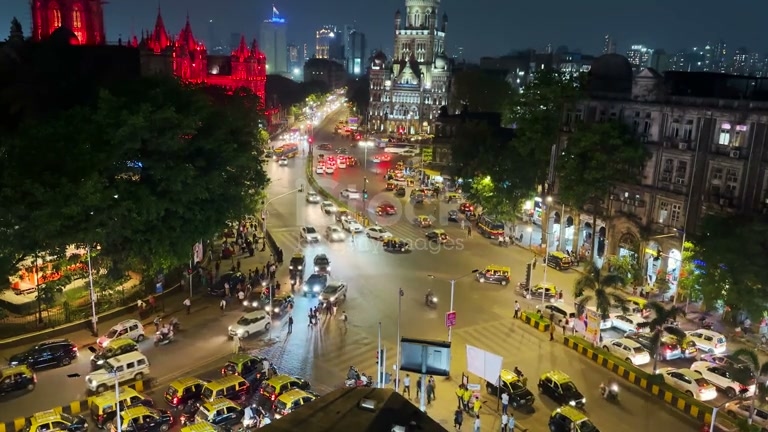bus: (315, 152, 357, 175)
car: (85, 349, 151, 395), (537, 370, 587, 409), (23, 339, 79, 371), (499, 366, 535, 410), (546, 404, 600, 432), (227, 309, 271, 340), (608, 337, 651, 364), (686, 329, 727, 357), (499, 380, 536, 411), (0, 366, 38, 395), (473, 265, 511, 286), (545, 249, 573, 272), (382, 237, 412, 253), (366, 226, 393, 241), (327, 225, 346, 242), (366, 225, 386, 239), (304, 228, 320, 244), (447, 210, 461, 223), (350, 223, 365, 233)
pedestrian: (453, 407, 464, 431)
